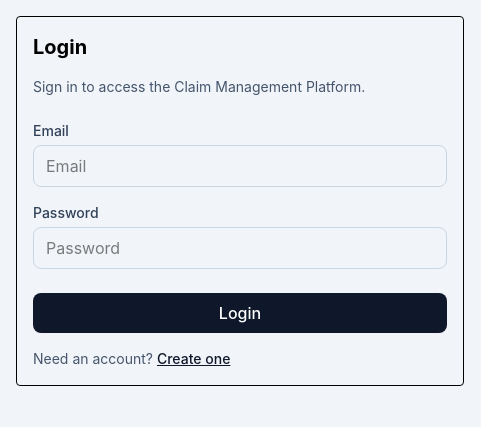
Test: LoginPage › shows an error message when login fails
Type "jeff@test.com" into the field with placeholder "Email".
click(240, 166); type("jeff@test.com")  # box x1=33 y1=145 x2=447 y2=187
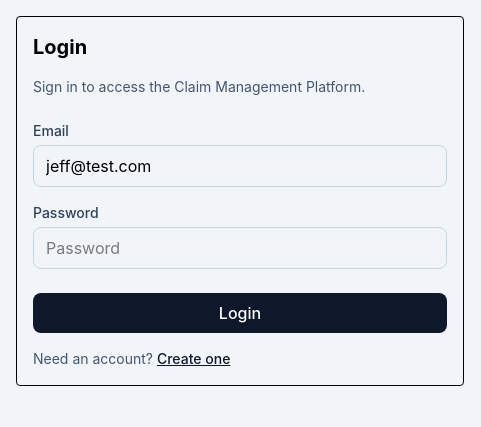
Type "WrongPassword" into the password field with placeholder "Password".
click(240, 248); type("WrongPassword")  # box x1=33 y1=227 x2=447 y2=269
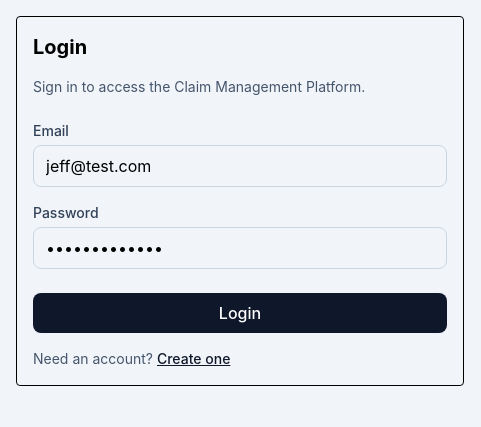
Click the button "Login".
click(240, 313)  # box x1=33 y1=293 x2=447 y2=333
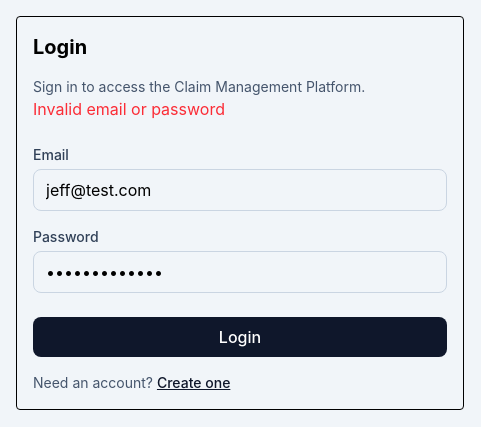
Now the text "Invalid email or password" is shown, box x1=33 y1=99 x2=225 y2=119
